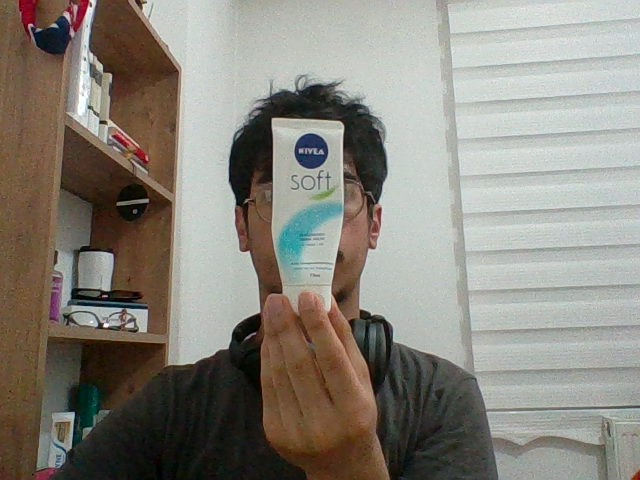NiveaSoft: (271, 119, 336, 314)
